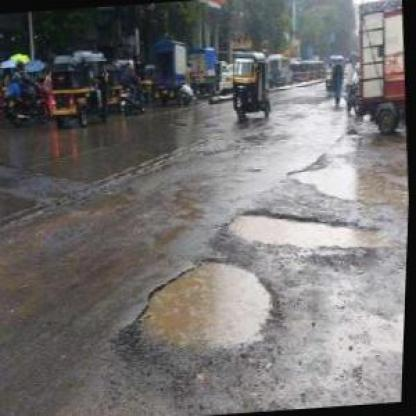pothole: (130, 249, 287, 356), (226, 198, 384, 260), (284, 157, 410, 216)
